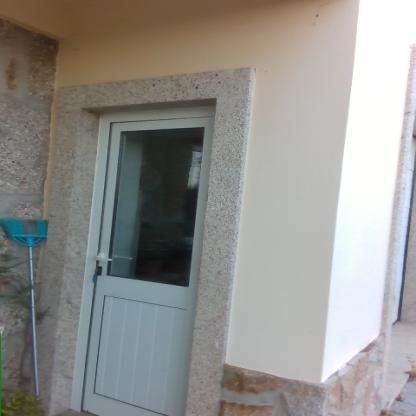closed: (66, 86, 230, 416)
